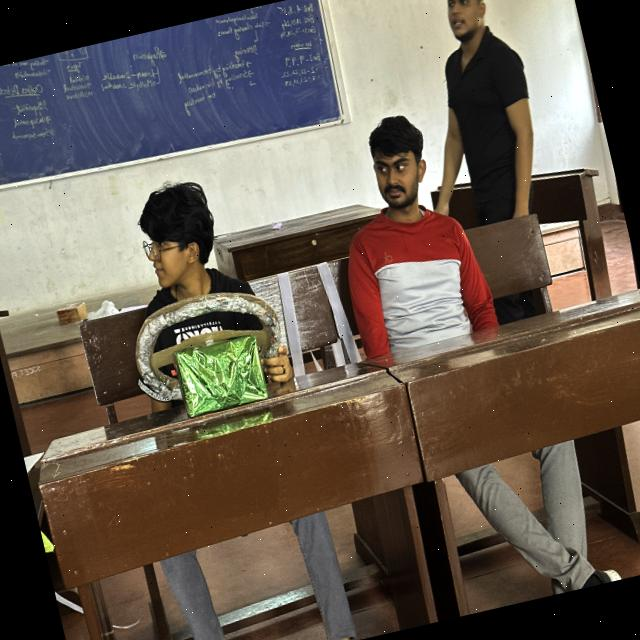Helmet: (323, 200, 509, 402), (119, 264, 296, 460), (419, 19, 566, 234)
